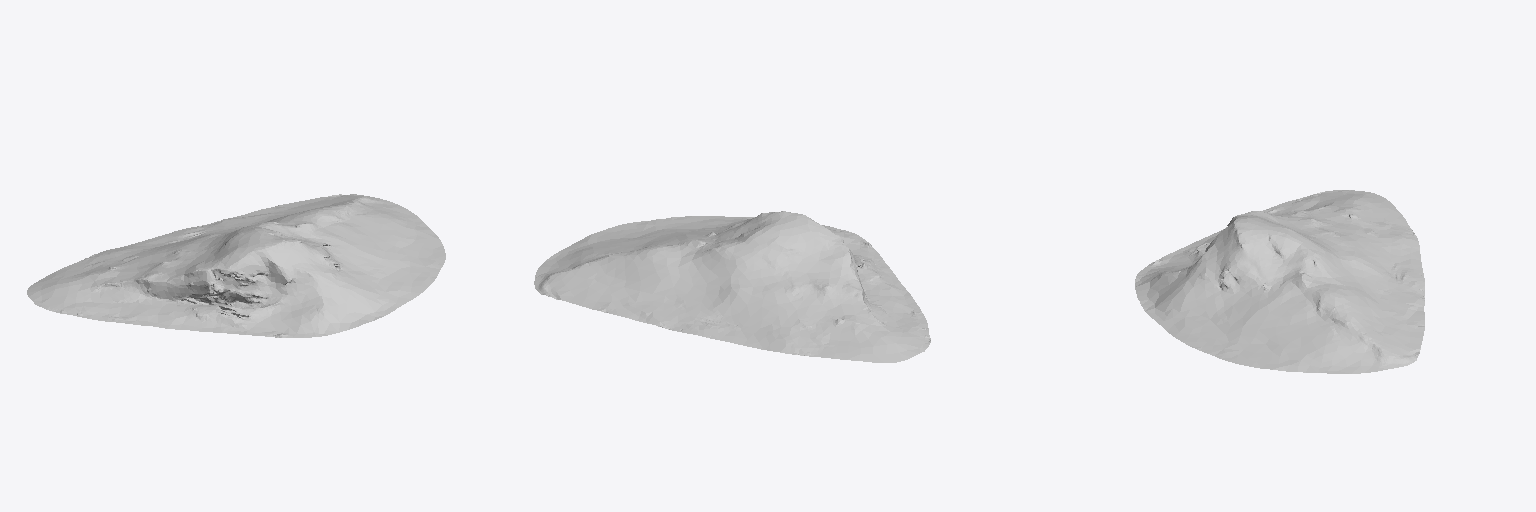
The model's file is city.obj.
3 renders of one model, left to right at view 1: azimuth 30°, elevation 25°; view 2: azimuth 150°, elevation 25°; view 3: azimuth 270°, elevation 25°, orthographic.
Visible parts, largest first — view 1: Aset_nature_snow_L_vdbmabvva_LOD0; view 2: Aset_nature_snow_L_vdbmabvva_LOD0; view 3: Aset_nature_snow_L_vdbmabvva_LOD0.
Part boxes in pixels (x1,y1,x2,y2): Aset_nature_snow_L_vdbmabvva_LOD0: (27,194,445,337); Aset_nature_snow_L_vdbmabvva_LOD0: (534,211,930,362); Aset_nature_snow_L_vdbmabvva_LOD0: (1135,190,1424,373).
Size of the model in its own units: 2055 by 292 by 1369.